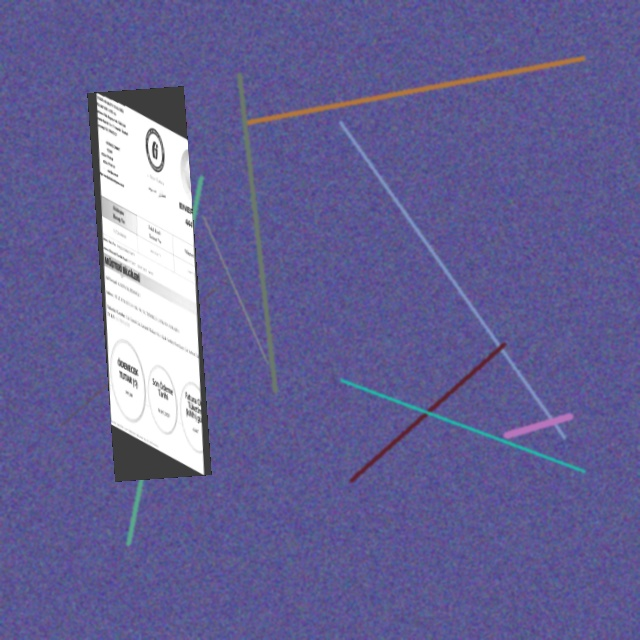electricity-bill: (87, 86, 212, 482)
